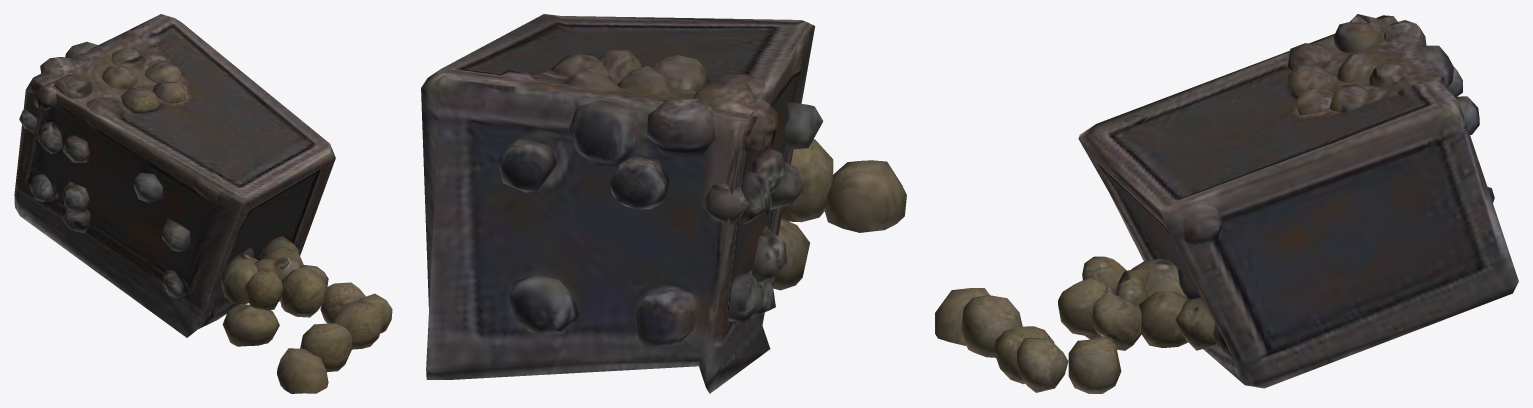
File: mt_vagonete.glb
3 views of the same model, side by side, from view 1: azimuth 30°, elevation 25°; view 2: azimuth 150°, elevation 25°; view 3: azimuth 270°, elevation 25° (orthographic). The views are drawn at different scales.
Visible parts, largest first — view 1: Mesh_0.997; view 2: Mesh_0.997; view 3: Mesh_0.997.
Part boxes in pixels (x1=…): Mesh_0.997: x1=14, y1=14, x2=392, y2=393; Mesh_0.997: x1=421, y1=14, x2=906, y2=393; Mesh_0.997: x1=935, y1=14, x2=1518, y2=393.
Bounding box in the file's own units: 0.1039 × 0.0996 × 0.189.
Materials: 1 (1 with a texture image).
